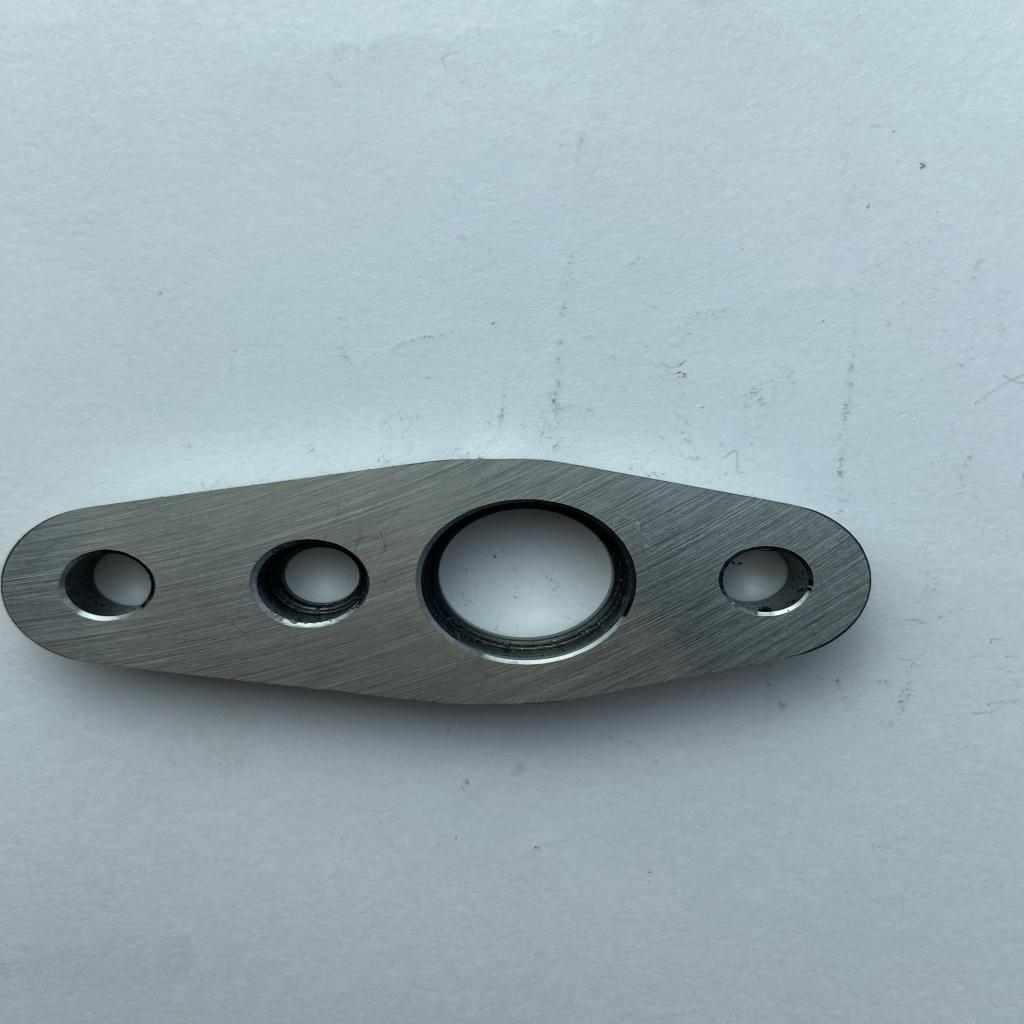chap: (179, 636, 189, 646)
lines: (354, 530, 387, 556), (228, 620, 257, 640), (416, 622, 432, 646)
